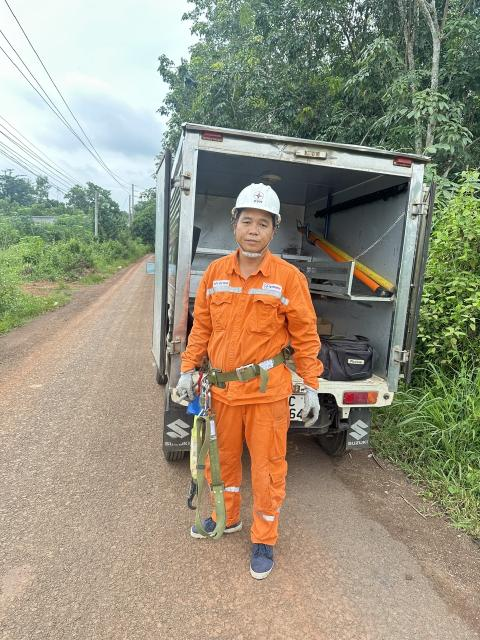gloves: (290, 379, 323, 433), (168, 369, 208, 407)
harness: (188, 348, 314, 394)
helmet: (231, 177, 293, 221)
shoes: (237, 529, 283, 588), (184, 503, 247, 544)
